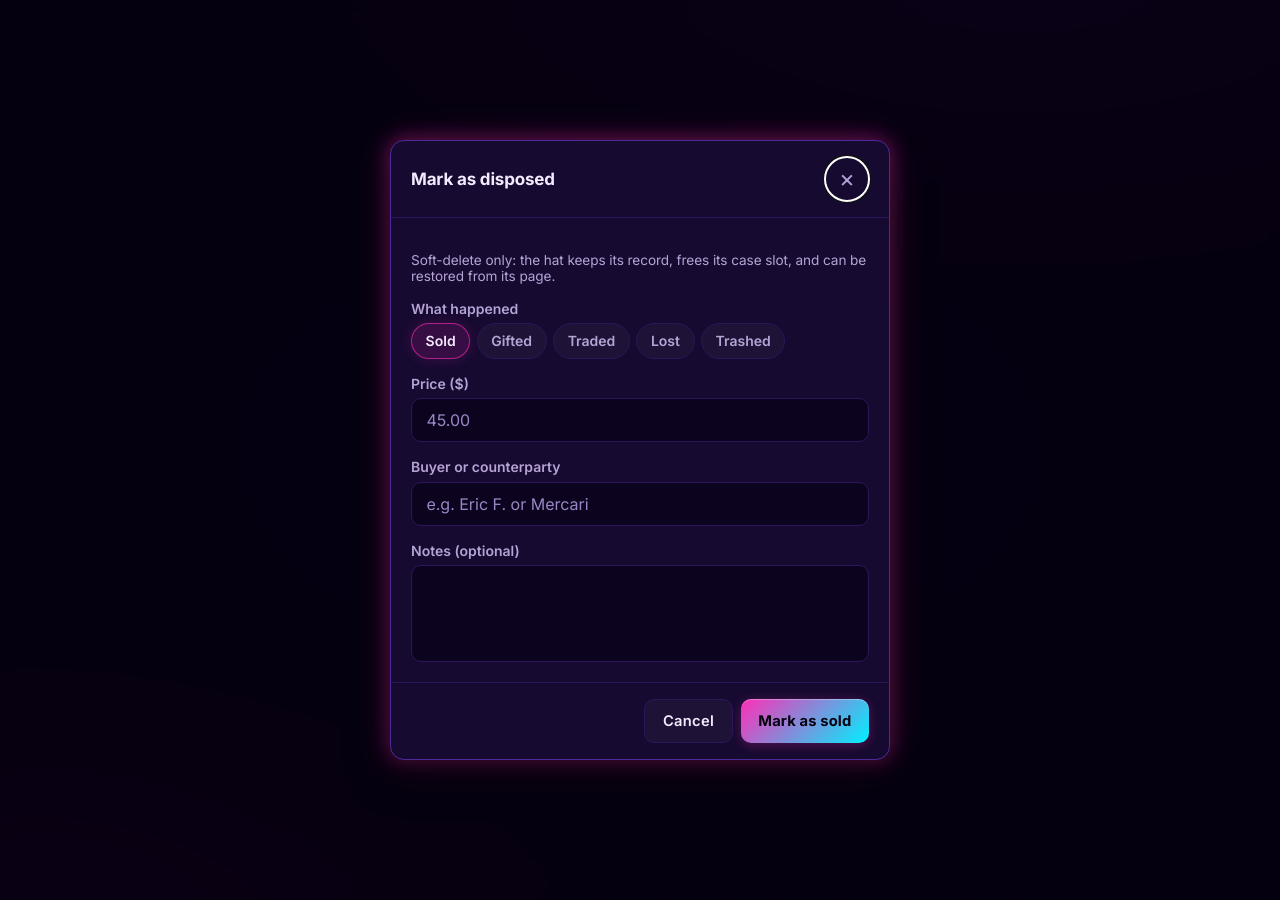
it: DisposeModal › defaults to Sold and sends the price and buyer
Type "45" into the number field labelled "Price ($)" at {"x": 640, "y": 420}, box [411,398,869,442]
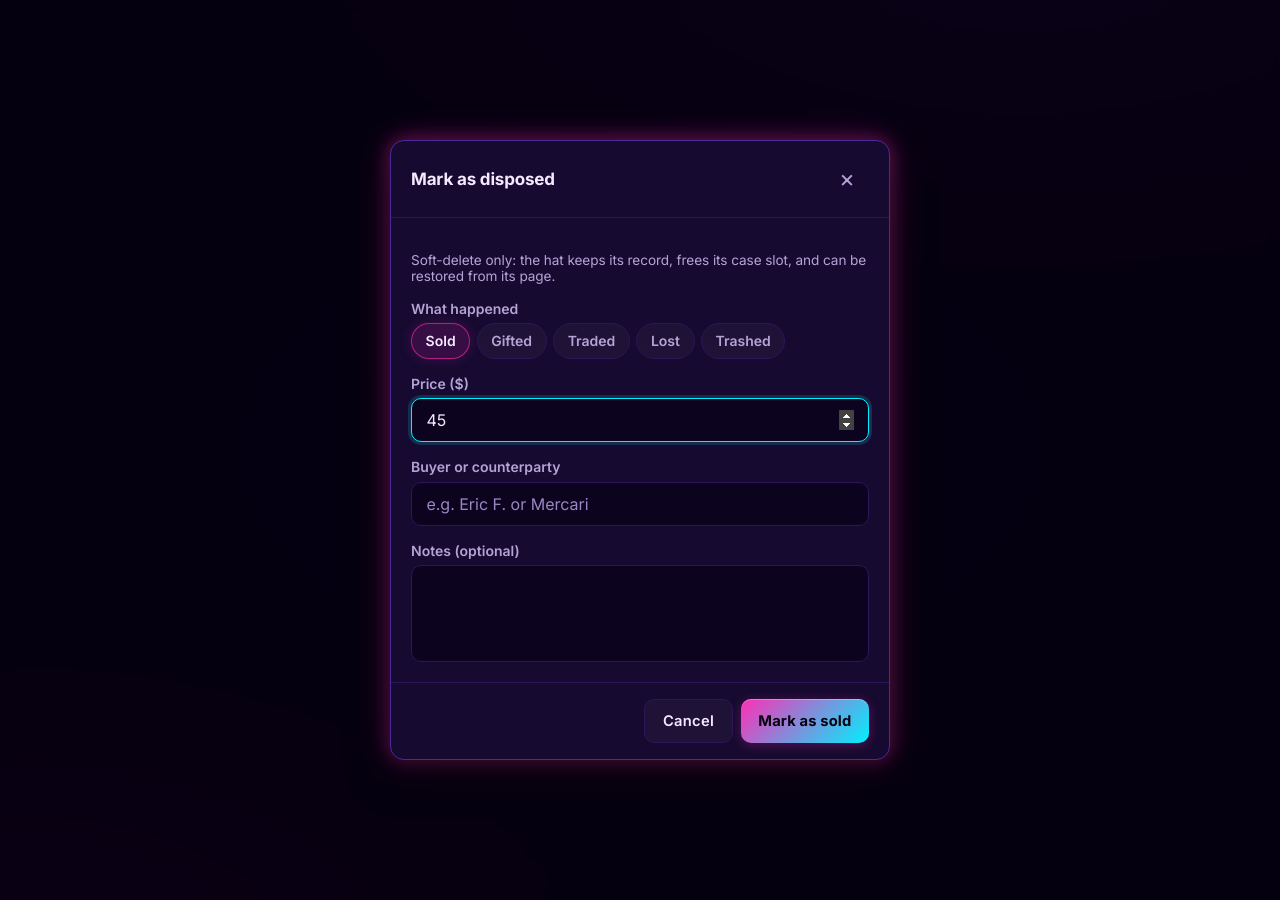
Type "Mercari" into the field labelled "Buyer or counterparty" at {"x": 640, "y": 504}, box [411,482,869,526]
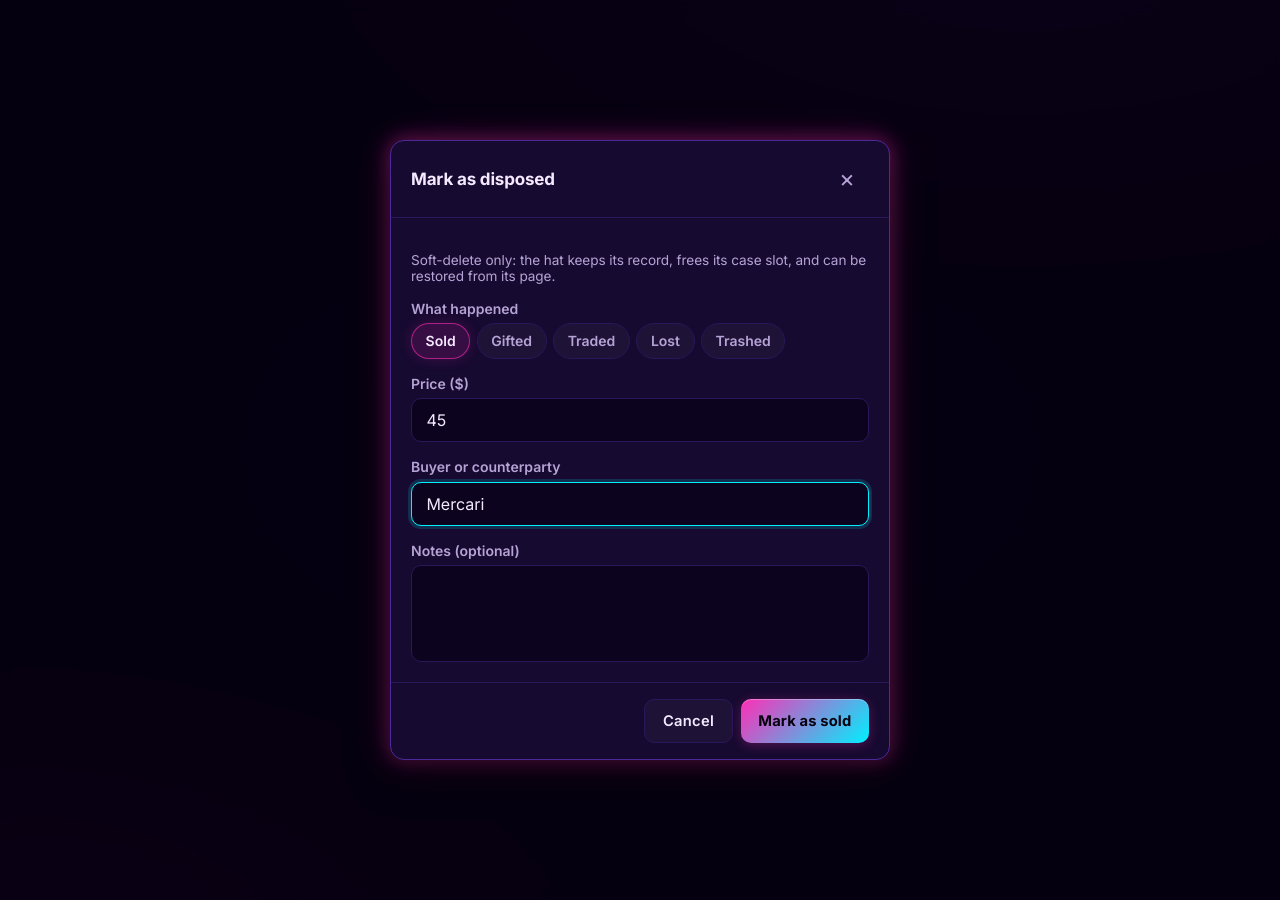
Click the button "Mark as sold" at {"x": 805, "y": 721}, box [741,699,869,743]
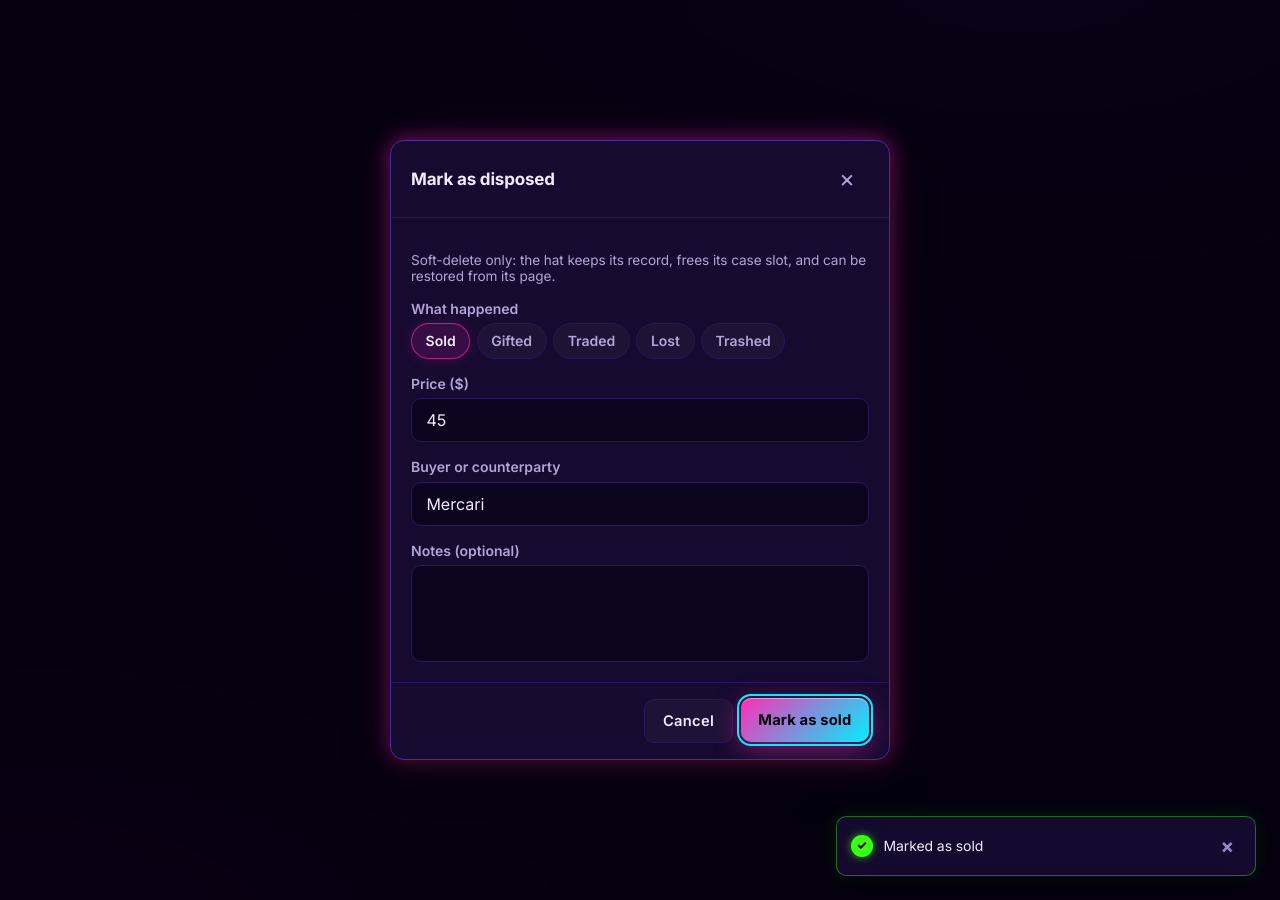
Check: the text "Marked as sold" is shown, box [883,837,983,854]
